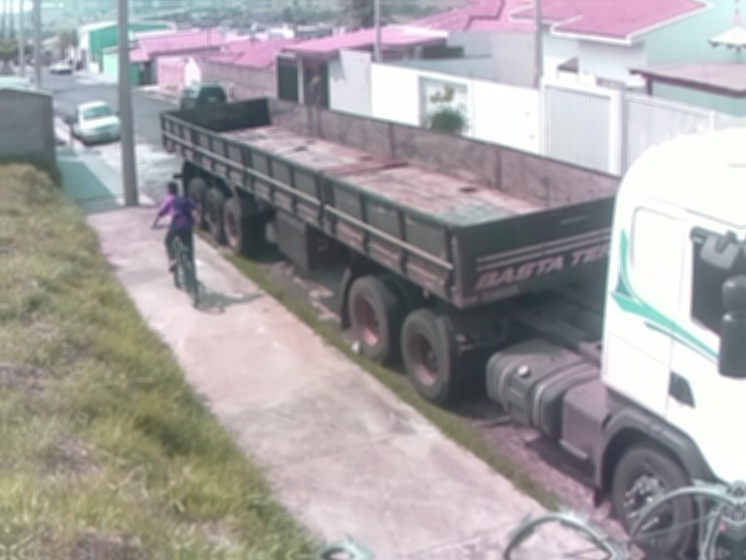person: (148, 178, 214, 293)
